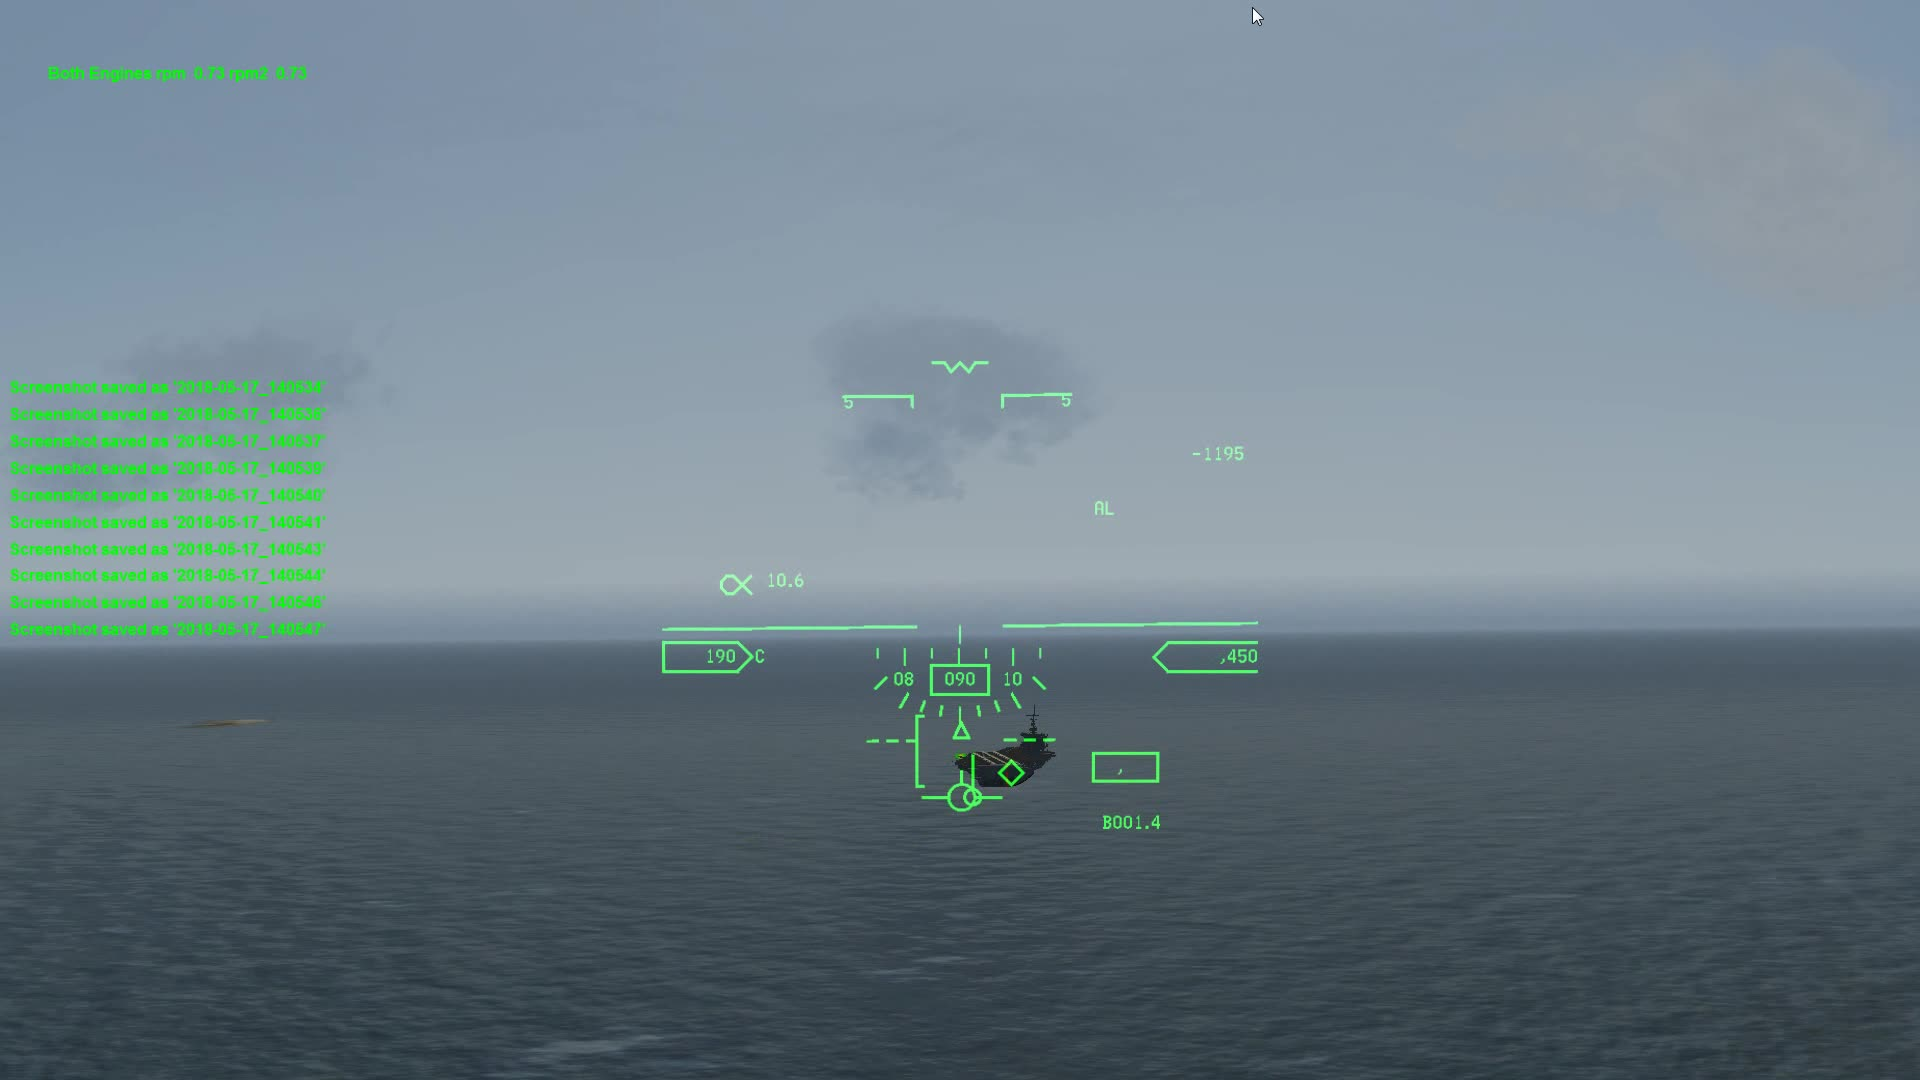speed vector: (923, 769, 1007, 819)
